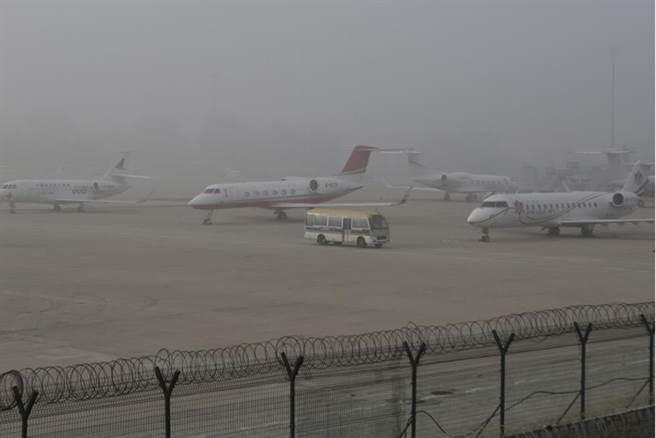bus: (304, 207, 392, 248)
